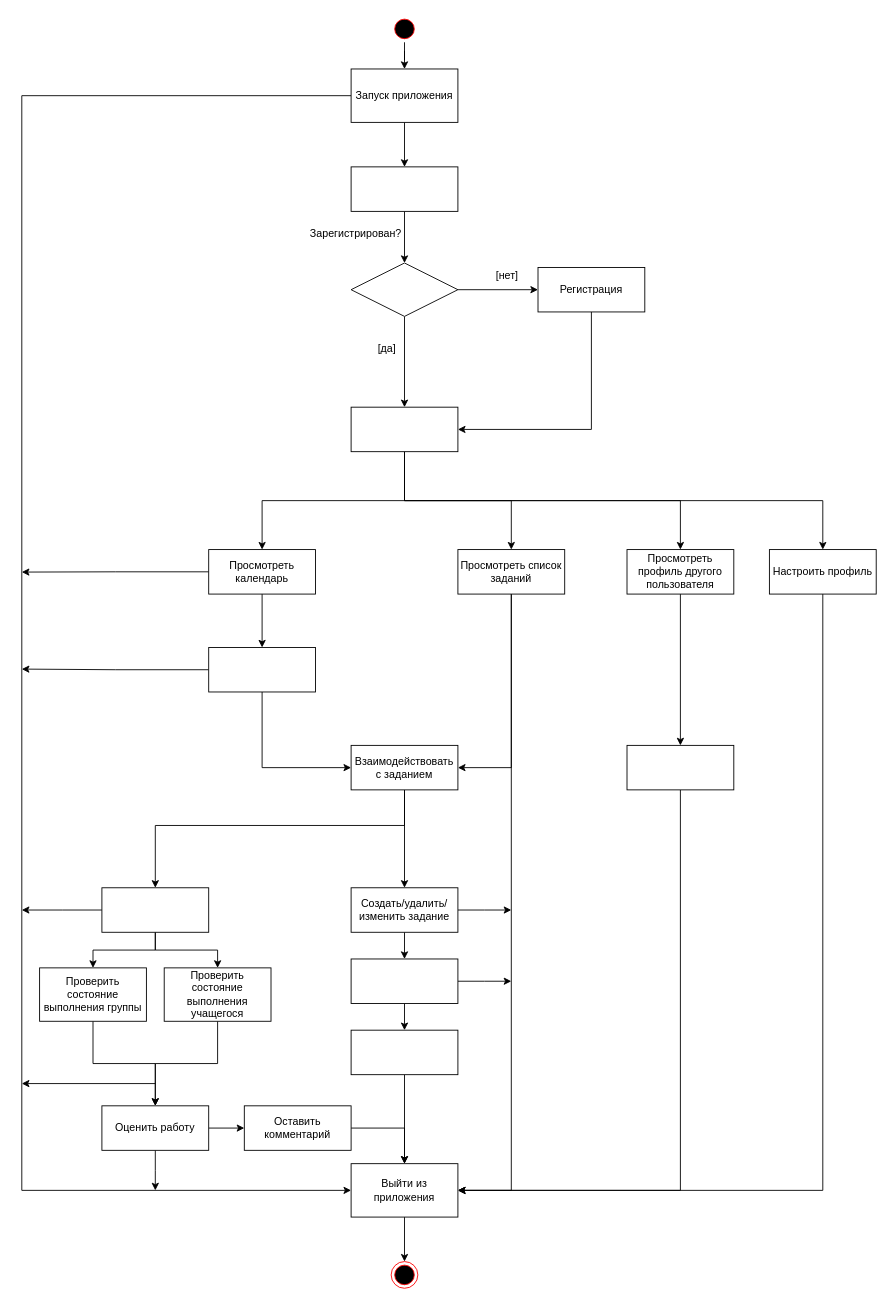
The diagram is 892 pixels wide and 1304 high, and some of its shapes have lost their labels. Here are the shapes that lost their labels. From the top down, the centre of each, then its label:
At pixel 404 188: "Войти в аккаунт".
At pixel 404 429: "Вход в аккаунт".
At pixel 262 669: "Просмотреть конкретный день".
At pixel 680 767: "Отправить жалобу".
At pixel 155 909: "Проверить состояние выполнения".
At pixel 404 980: "Прикрепить файл к заданию".
At pixel 404 1052: "Отписать/приписать учащихся к заданию".
